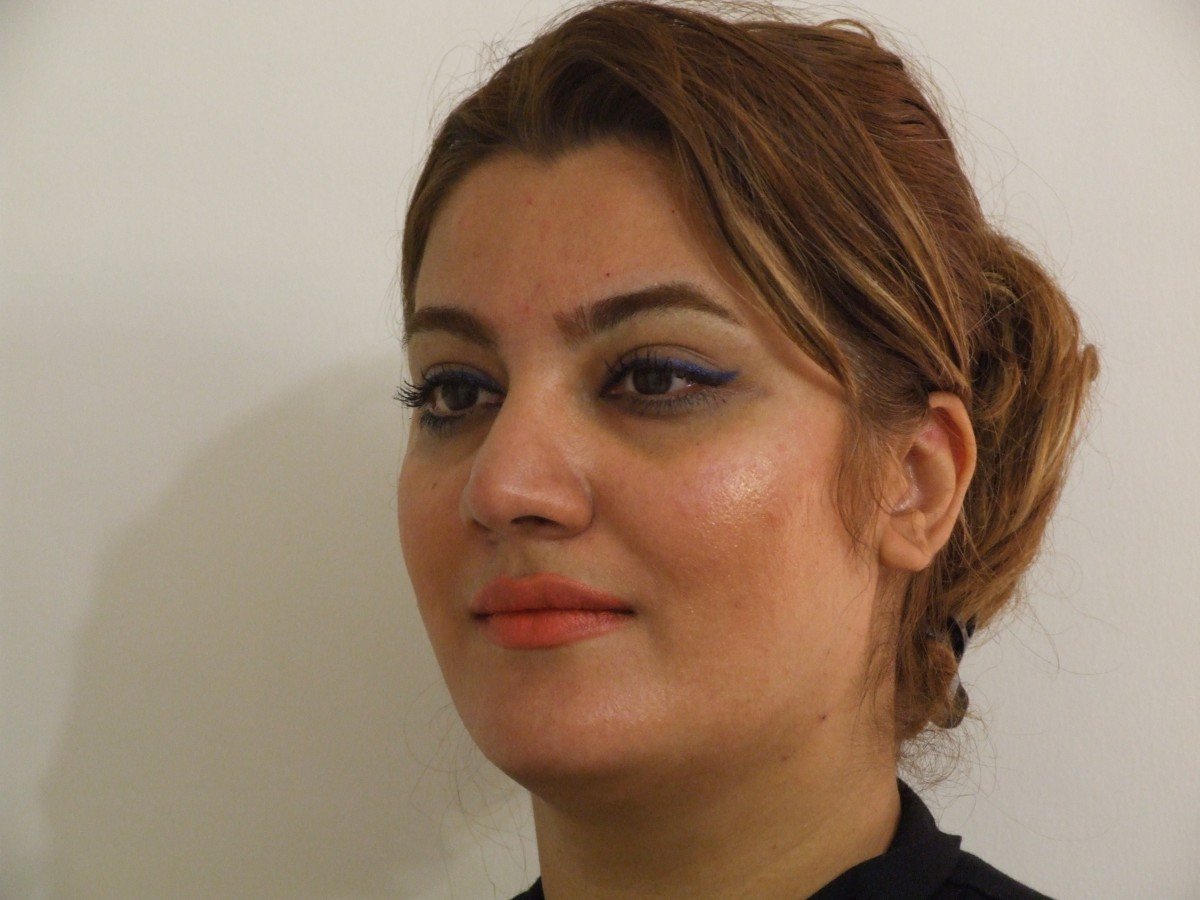neo: (814, 701, 863, 747), (766, 745, 825, 778)
